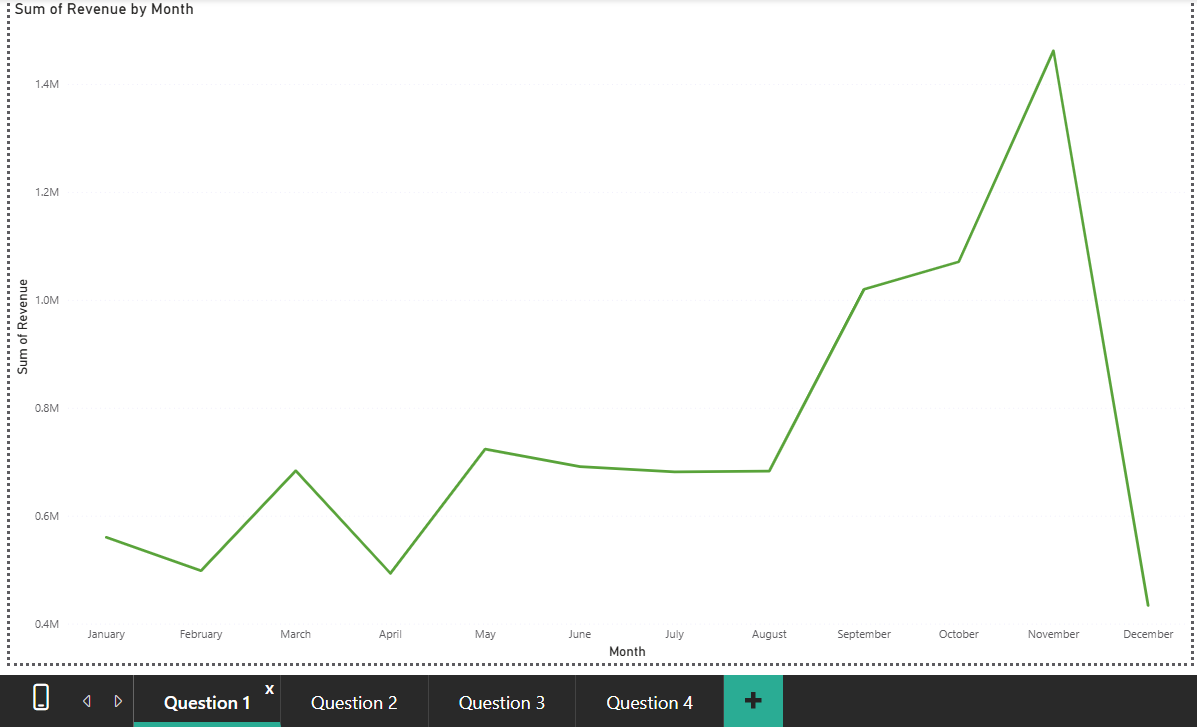

This screenshot's page, from the dashboard's own definition file:
{"tool":"powerbi","page":{"name":"Question 1","canvas":[1280,720],"ordinal":0},"visuals":[{"type":"lineChart","fields":{"Y":["Sum(Online Retail.Revenue)"],"Category":["Online Retail.InvoiceDate.Variation.Date Hierarchy.Month"]},"box":[0,0,1280,720],"z":0}]}

Visuals, with their boxes on the page's 1280x720 design canvas (x1, y1, x2, y2). These are canvas units, not pixel positions in the 1197x727 screenshot, which may show the page scaled, cropped or inside an application window:
lineChart - Sum(Online Retail.Revenue) x Online Retail.InvoiceDate.Variation.Date Hierarchy.Month: {"left": 0, "top": 0, "right": 1280, "bottom": 720}
